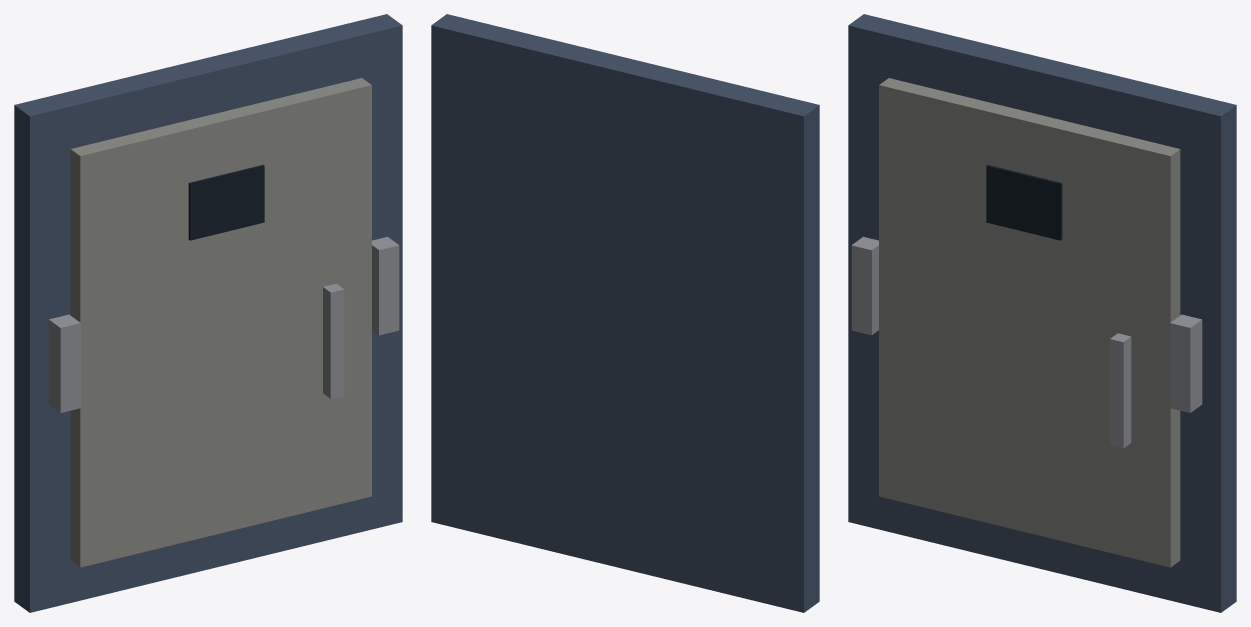
File: kz6_hatch.obj
The picture shows the model from 3 angles, left to right: view 1: azimuth 30°, elevation 25°; view 2: azimuth 150°, elevation 25°; view 3: azimuth 330°, elevation 25°; orthographic projection.
Parts seen in each view (by area): view 1: kz6_hatch; view 2: kz6_hatch; view 3: kz6_hatch.
Part boxes in pixels (<box>): kz6_hatch: <box>14,14,402,612</box>; kz6_hatch: <box>431,14,819,612</box>; kz6_hatch: <box>848,14,1236,612</box>.
Bounding box in the file's own units: 1.1 × 1.4 × 0.18.
